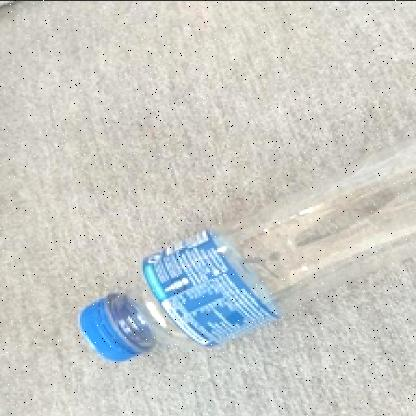Plastic Bottle: (78, 138, 414, 362), (78, 228, 284, 362), (78, 292, 154, 362)
